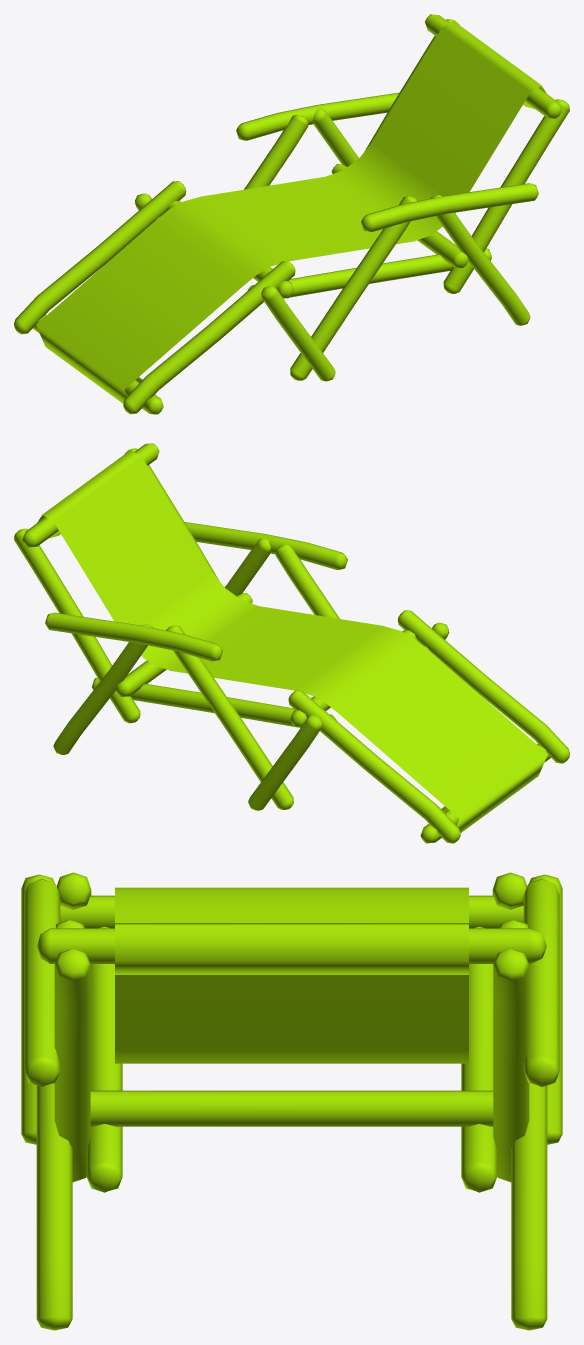
File: Mode_transat.fbx
The picture shows the model from 3 angles, top to bottom: view 1: azimuth 30°, elevation 25°; view 2: azimuth 150°, elevation 25°; view 3: azimuth 270°, elevation 25°; orthographic projection. The views are drawn at different scales.
Parts seen in each view (by area): view 1: transat1; view 2: transat1; view 3: transat1.
Part boxes in pixels (<box>): transat1: <box>14,14,569,414</box>; transat1: <box>14,443,569,843</box>; transat1: <box>21,872,562,1330</box>.
Size of the model in its own units: 168 by 81.75 by 88.5.
